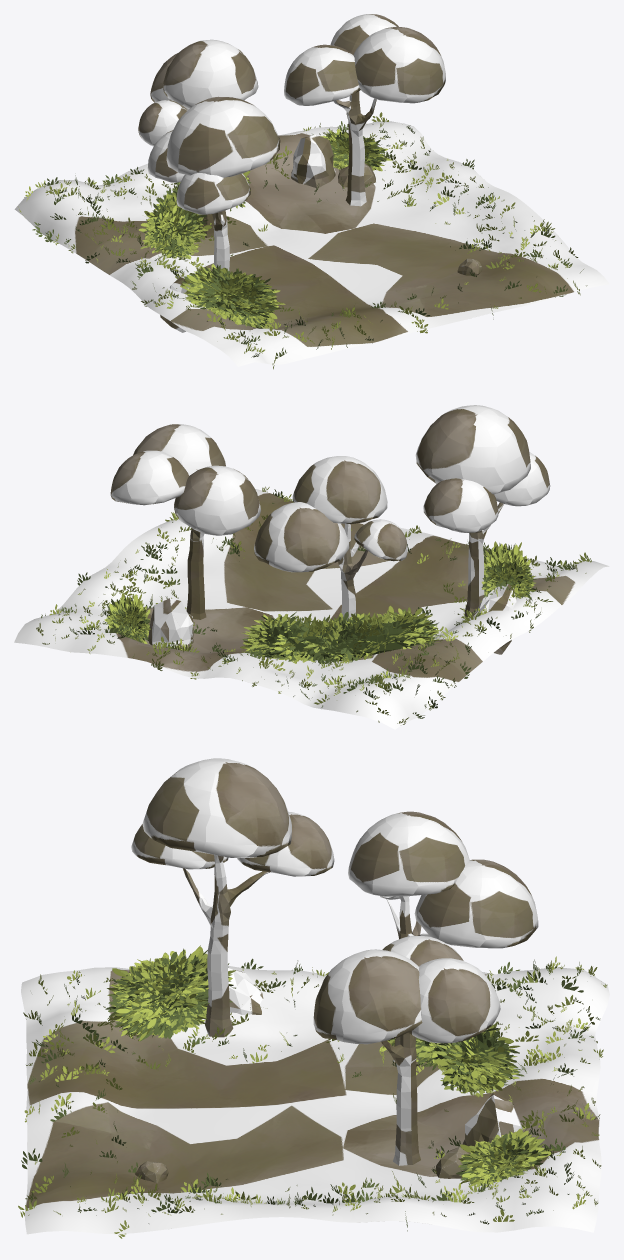
Rendered from Env Test 1.fbx.
The picture shows the model from 3 angles, top to bottom: view 1: azimuth 30°, elevation 25°; view 2: azimuth 150°, elevation 25°; view 3: azimuth 270°, elevation 25°; orthographic projection. The views are drawn at different scales.
Visible parts, largest first — view 1: Ground, Leaf_1.006, Leaf_1.001, Leaf_1.004, Leaf_1.007, Leaf_1.009, Pohon_3, Rock_1, Leaf_1.003, Leaf_1.002, Leaf_1.008, Pohon_1 (+1 smaller); view 2: Ground, Leaf_1.006, Leaf_1.005, Leaf_1.004, Leaf_1.007, Leaf_1.002, Leaf_1.008, Leaf_1.001, Cube.002, Rock_1, Leaf_1.003, Leaf_1.009 (+4 smaller); view 3: Ground, Leaf_1.006, Leaf_1.001, Leaf_1.004, Leaf_1.005, Leaf_1.002, Pohon_1, Leaf_1.008, Pohon_3, Rock_1, Leaf_1.009, Leaf_1.007 (+3 smaller).
Boxes of the visible parts, x1,y1,x2,y2 form: Ground: (14, 121, 609, 366); Leaf_1.006: (166, 96, 280, 177); Leaf_1.001: (353, 26, 445, 103); Leaf_1.004: (163, 39, 258, 108); Leaf_1.007: (284, 44, 360, 105); Leaf_1.009: (176, 173, 250, 214); Pohon_3: (333, 54, 376, 206); Rock_1: (291, 134, 335, 188); Leaf_1.003: (138, 100, 187, 146); Leaf_1.002: (330, 14, 398, 54); Leaf_1.008: (147, 130, 184, 182); Pohon_1: (212, 210, 229, 270); Ground: (14, 489, 609, 729); Leaf_1.006: (415, 405, 530, 494); Leaf_1.005: (254, 502, 349, 572); Leaf_1.004: (292, 456, 387, 524); Leaf_1.007: (174, 465, 260, 535); Leaf_1.002: (110, 450, 188, 505); Leaf_1.008: (423, 478, 498, 532); Leaf_1.001: (133, 424, 225, 475); Cube.002: (261, 622, 416, 660); Rock_1: (148, 598, 193, 667); Leaf_1.003: (354, 519, 407, 561); Leaf_1.009: (494, 452, 550, 506); Ground: (21, 966, 609, 1234); Leaf_1.006: (142, 758, 291, 857); Leaf_1.001: (313, 949, 422, 1044); Leaf_1.004: (348, 811, 469, 896); Leaf_1.005: (414, 859, 538, 948); Leaf_1.002: (408, 958, 500, 1043); Pohon_1: (183, 855, 269, 1037); Leaf_1.008: (237, 811, 334, 876); Pohon_3: (381, 1032, 420, 1165); Rock_1: (462, 1092, 522, 1146); Leaf_1.009: (131, 824, 228, 869); Leaf_1.007: (382, 936, 463, 966).
Size of the model in its own units: 16507 by 9008 by 16211.
